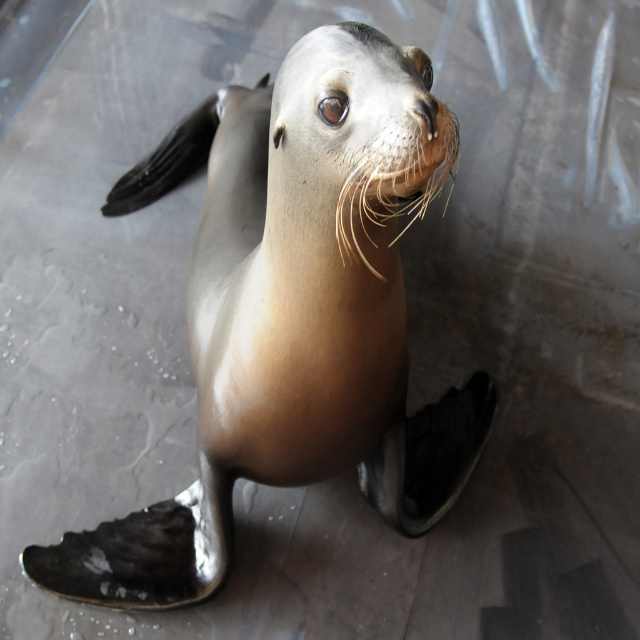Sea lion: (22, 23, 497, 607)
